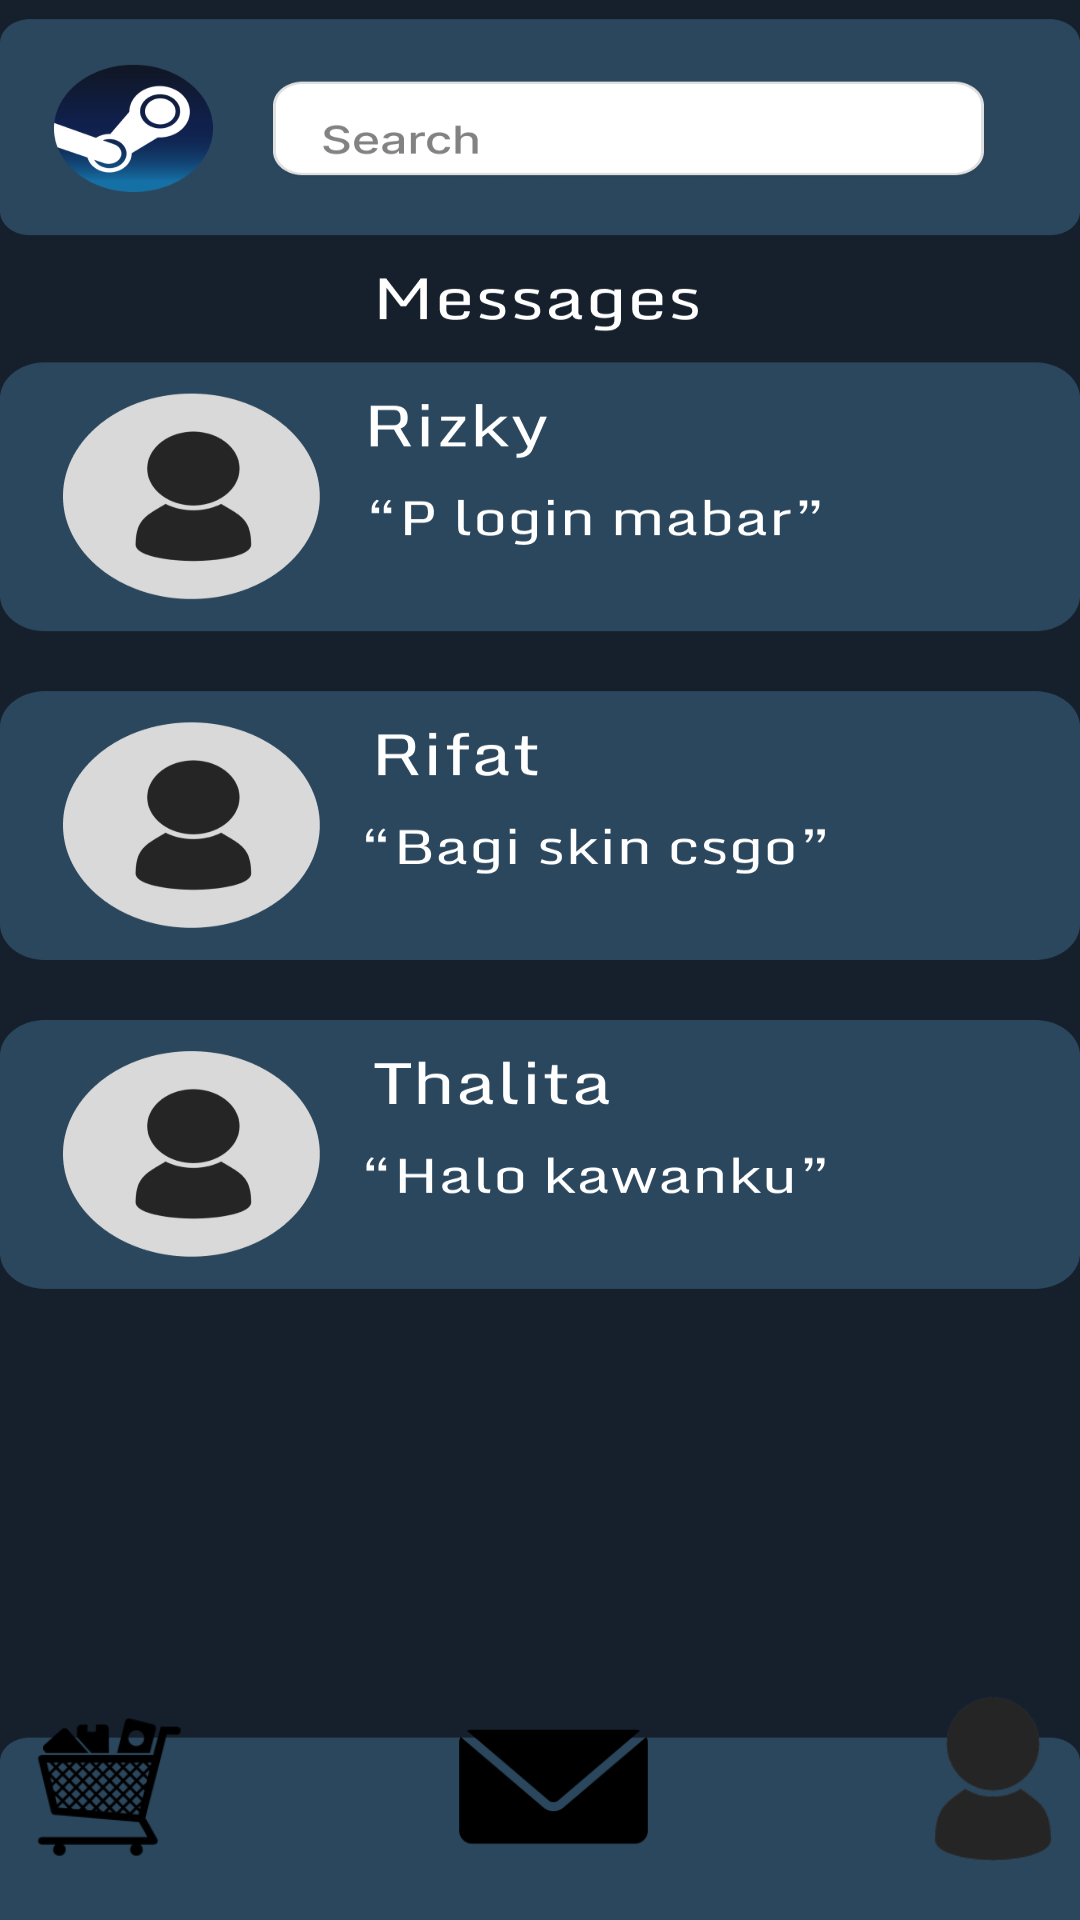

Where to tap for icons on this 1080px×1920px app screen, as [x,y]:
message: [553,1774]
